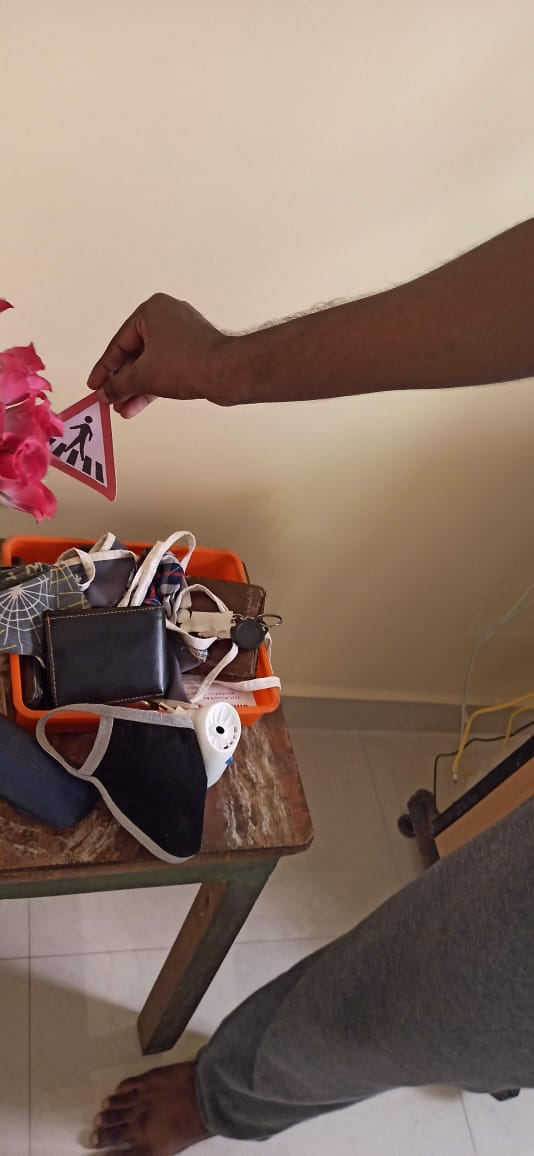PEDESTRIAN CROSSING: (26, 373, 128, 514)
